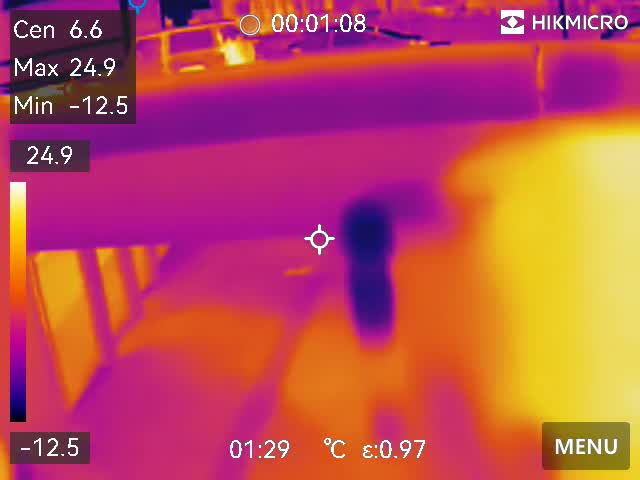largeCar: (62, 18, 255, 82)
smallCar: (273, 24, 439, 58)
